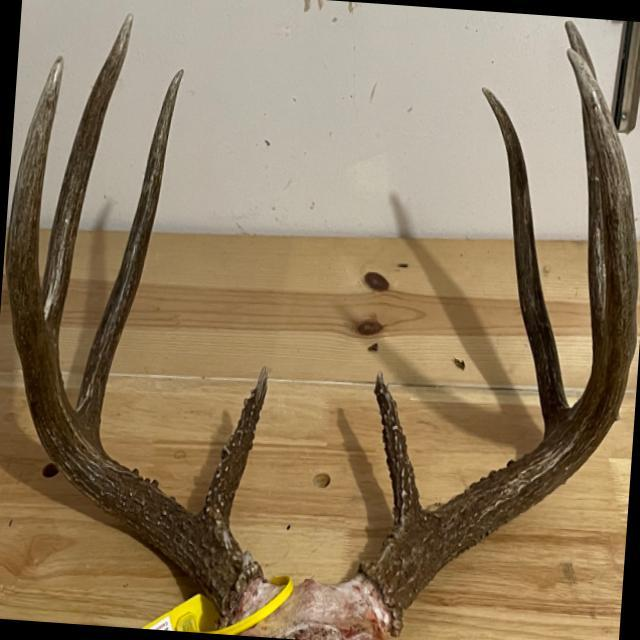L-F: (357, 47, 638, 639)
L-G1: (372, 369, 422, 535)
L-G2: (480, 85, 570, 439)
R-F: (4, 53, 268, 629)
R-G1: (195, 363, 268, 538)
R-G2: (74, 65, 186, 451)
R-G3: (42, 9, 134, 343)
